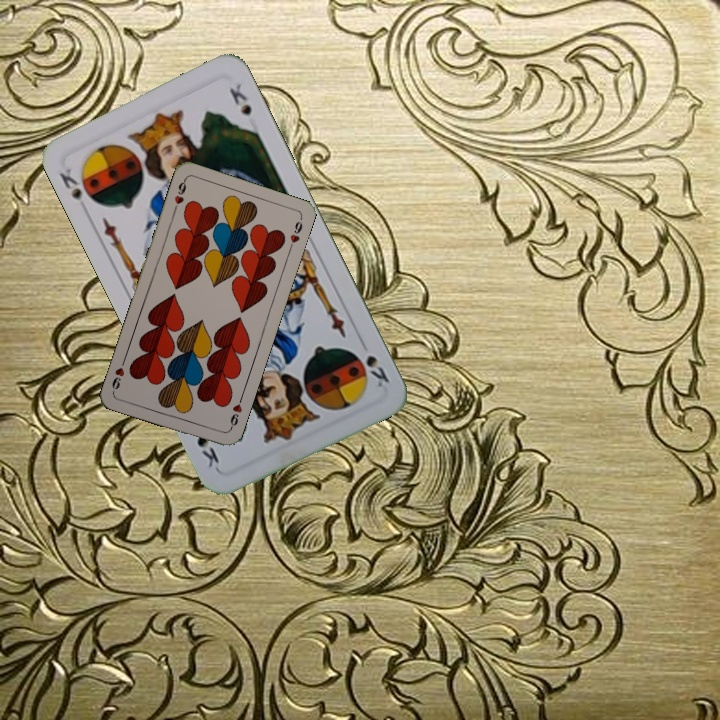H9: (170, 175, 189, 215), (226, 393, 245, 433)
SK: (356, 335, 392, 390), (55, 164, 100, 208)
